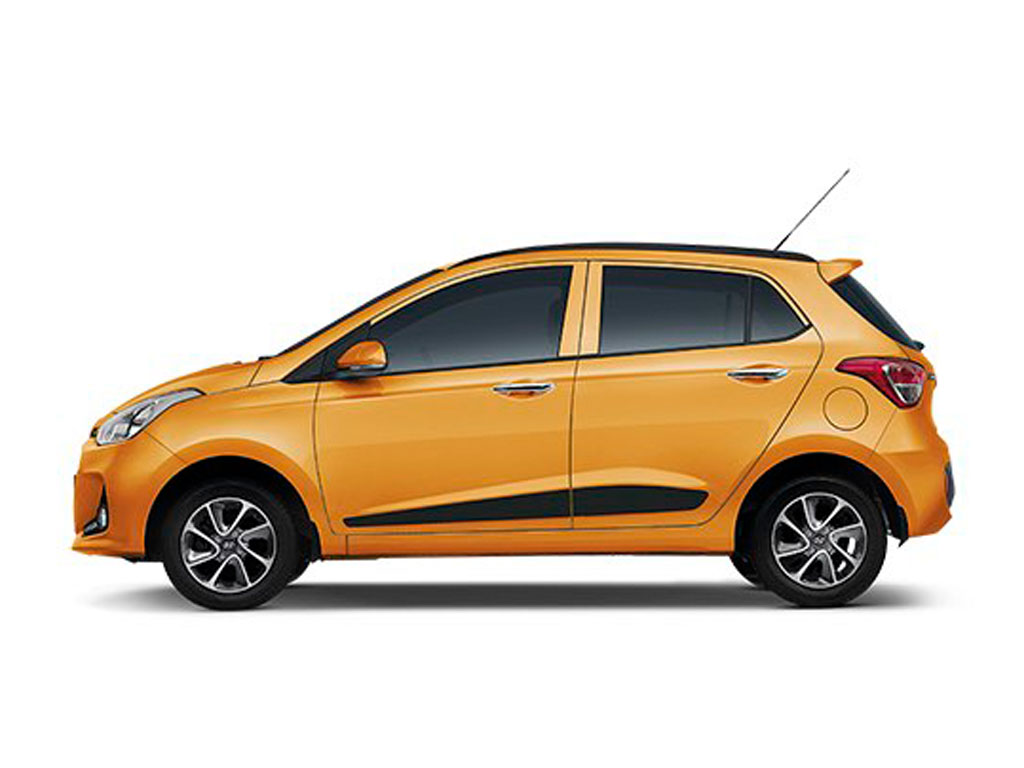i10: (44, 159, 972, 645)
